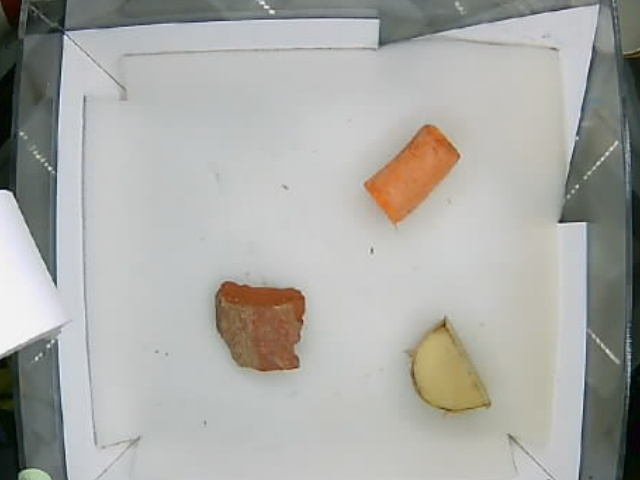Brisk: (215, 281, 306, 373)
Carrot: (362, 122, 464, 226)
Potato: (409, 319, 490, 411)
